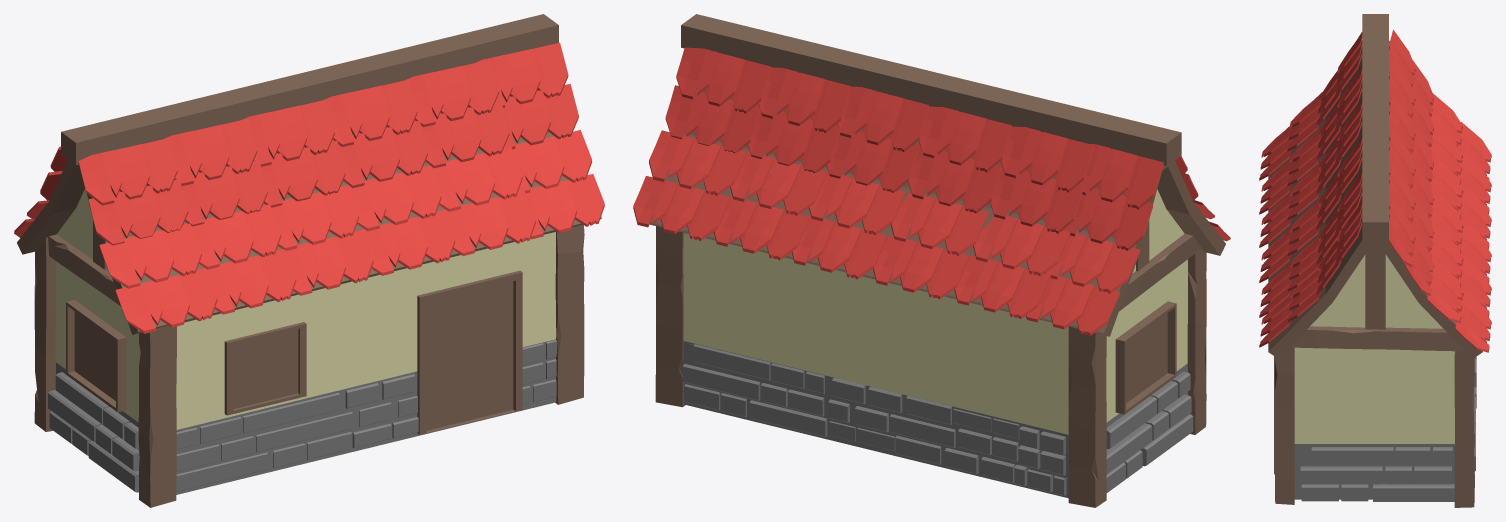
File: NEW_house1.fbx
The picture shows the model from 3 angles, left to right: view 1: azimuth 30°, elevation 25°; view 2: azimuth 150°, elevation 25°; view 3: azimuth 270°, elevation 25°; orthographic projection. The views are drawn at different scales.
Parts seen in each view (by area): view 1: Plane.001; view 2: Plane.001; view 3: Plane.001.
Boxes of the visible parts, bbox=[...] form: Plane.001: bbox=[14, 14, 604, 507]; Plane.001: bbox=[633, 14, 1230, 507]; Plane.001: bbox=[1259, 14, 1491, 507].
Size of the model in its own units: 507 by 337 by 240.
